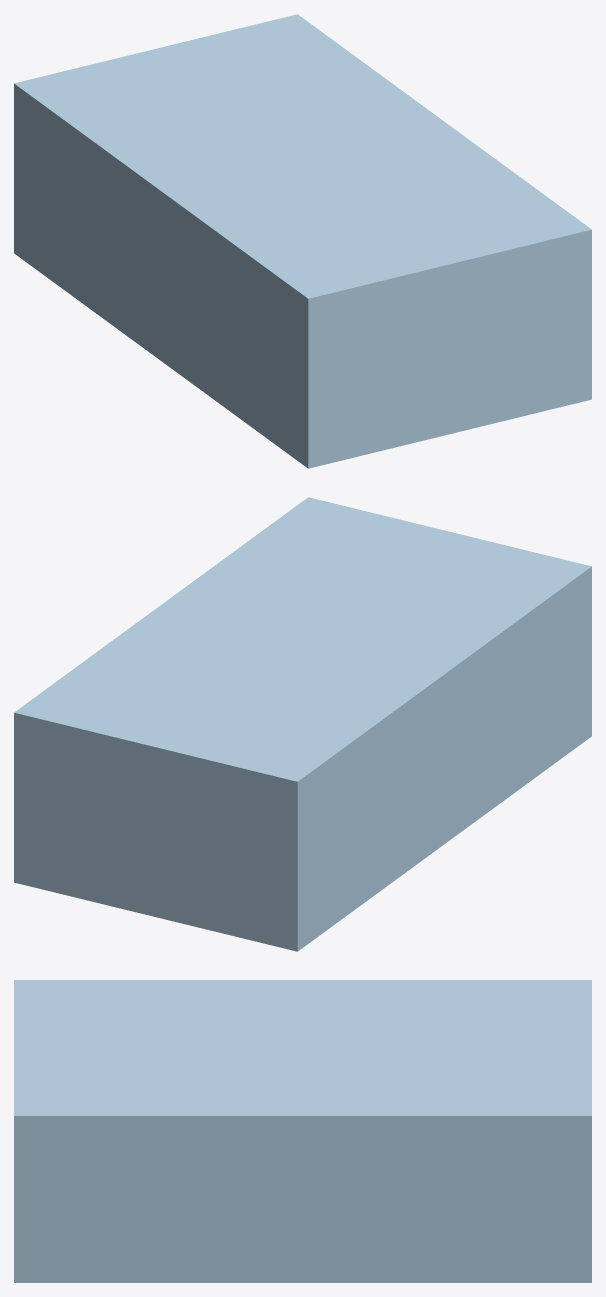
3 views of the same model, one above another, from view 1: azimuth 30°, elevation 25°; view 2: azimuth 150°, elevation 25°; view 3: azimuth 270°, elevation 25° (orthographic).
Parts seen in each view (by area): view 1: world_geometry; view 2: world_geometry; view 3: world_geometry.
Part boxes in pixels (x1,y1,x2,y2): world_geometry: (14,14,591,468); world_geometry: (14,497,591,951); world_geometry: (14,980,591,1282).
Bounding box in the file's own units: 93.69 × 53.63 × 168.
